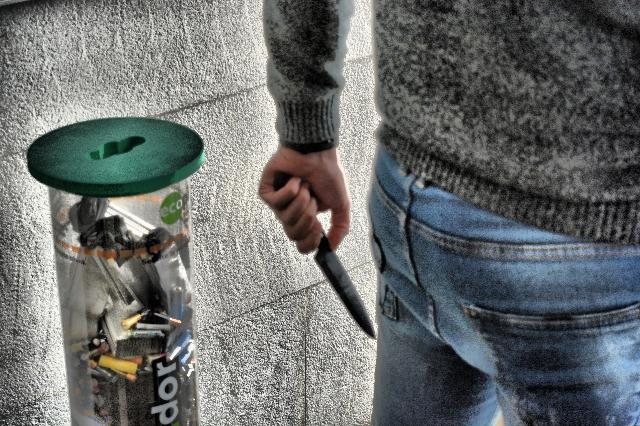knife: (271, 167, 377, 341)
